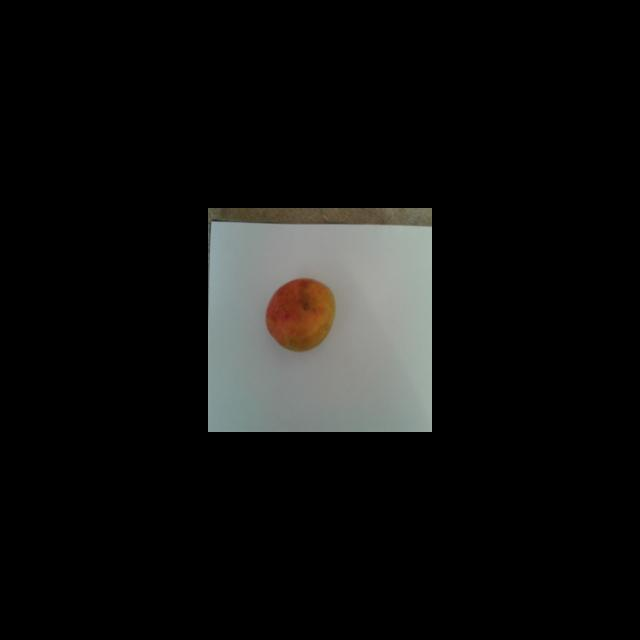Mango: (265, 277, 335, 352)
